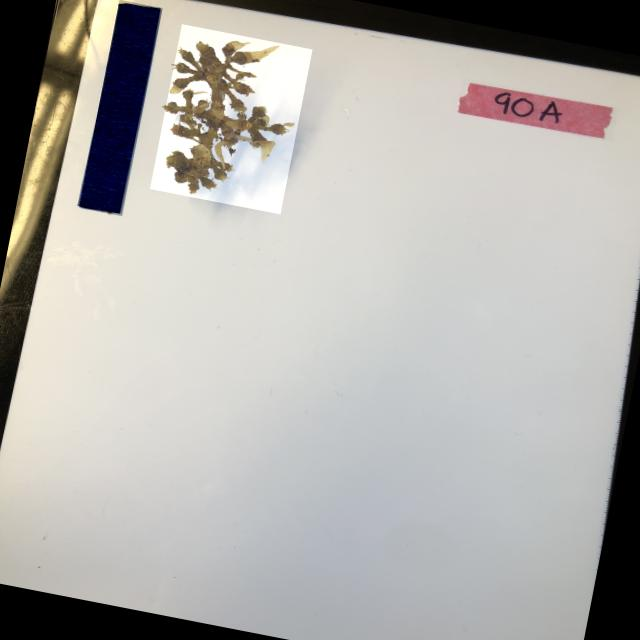index: (456, 78, 619, 142)
measure_label: (79, 0, 163, 216)
rachis_cluster: (150, 24, 312, 214)
